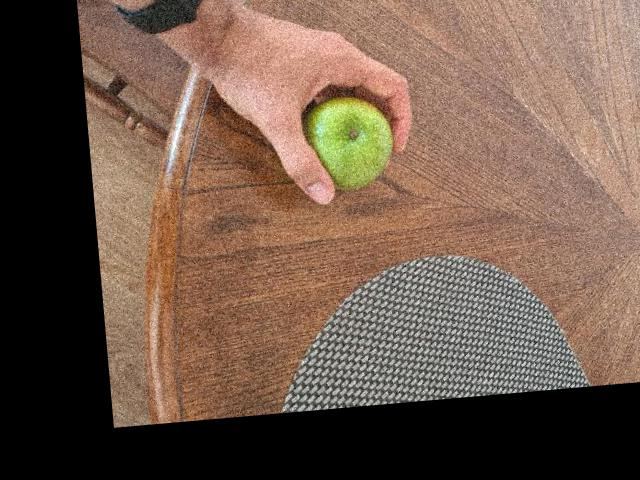apple: (306, 98, 392, 200)
